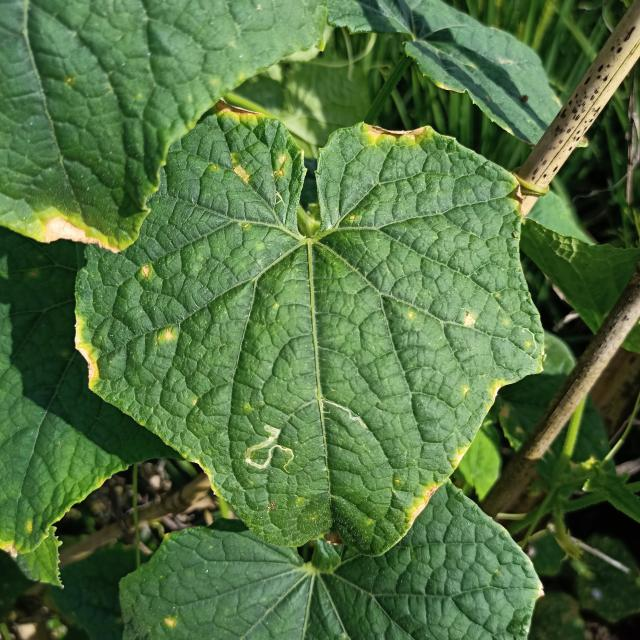disease_cucumber: (214, 100, 285, 191), (458, 372, 511, 408), (132, 262, 155, 282), (461, 307, 479, 329), (159, 327, 174, 348)
